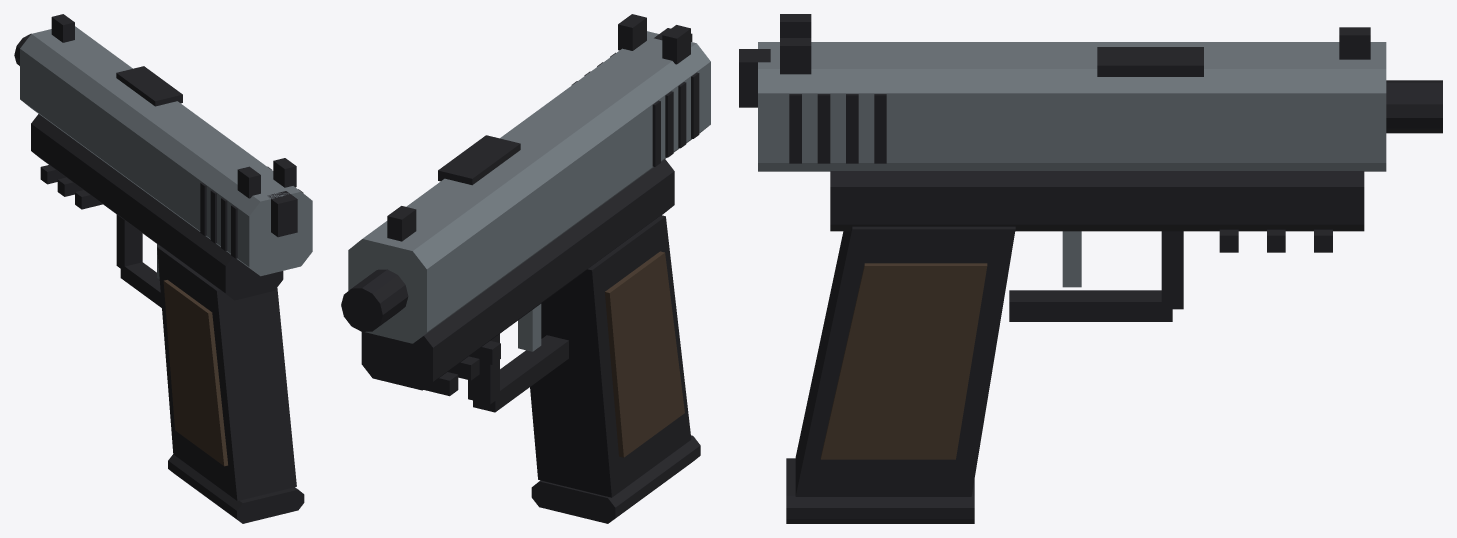
The model's file is pistol.glb.
The picture shows the model from 3 angles, left to right: view 1: azimuth 30°, elevation 25°; view 2: azimuth 150°, elevation 25°; view 3: azimuth 270°, elevation 25°; orthographic projection. The views are drawn at different scales.
Parts seen in each view (by area): view 1: pistol; view 2: pistol; view 3: pistol.
Part boxes in pixels (<box>): pistol: <box>14,14,312,523</box>; pistol: <box>341,14,710,523</box>; pistol: <box>739,14,1442,523</box>.
Bounding box in the file's own units: 0.034 × 0.167 × 0.224.
Materials: 1 (1 with a texture image).
